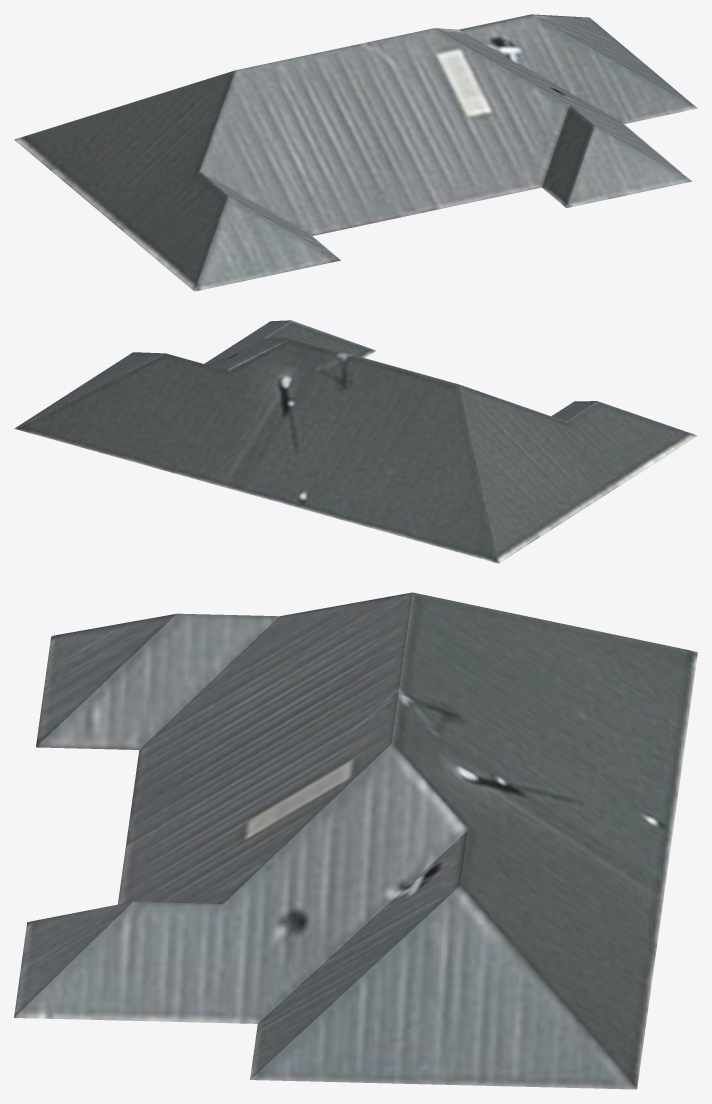
The model's file is CG10_500_037056_0031_roof.obj.
The picture shows the model from 3 angles, top to bottom: view 1: azimuth 30°, elevation 25°; view 2: azimuth 150°, elevation 25°; view 3: azimuth 270°, elevation 25°; orthographic projection. The views are drawn at different scales.
Visible parts, largest first — view 1: CG10_500_037056_0031_roof; view 2: CG10_500_037056_0031_roof; view 3: CG10_500_037056_0031_roof.
Boxes of the visible parts, x1,y1,x2,y2 form: CG10_500_037056_0031_roof: (14, 14, 697, 291); CG10_500_037056_0031_roof: (14, 320, 697, 563); CG10_500_037056_0031_roof: (14, 592, 697, 1089).
Bounding box in the file's own units: 415 × 70 × 265.
1 material, 1 textured.
